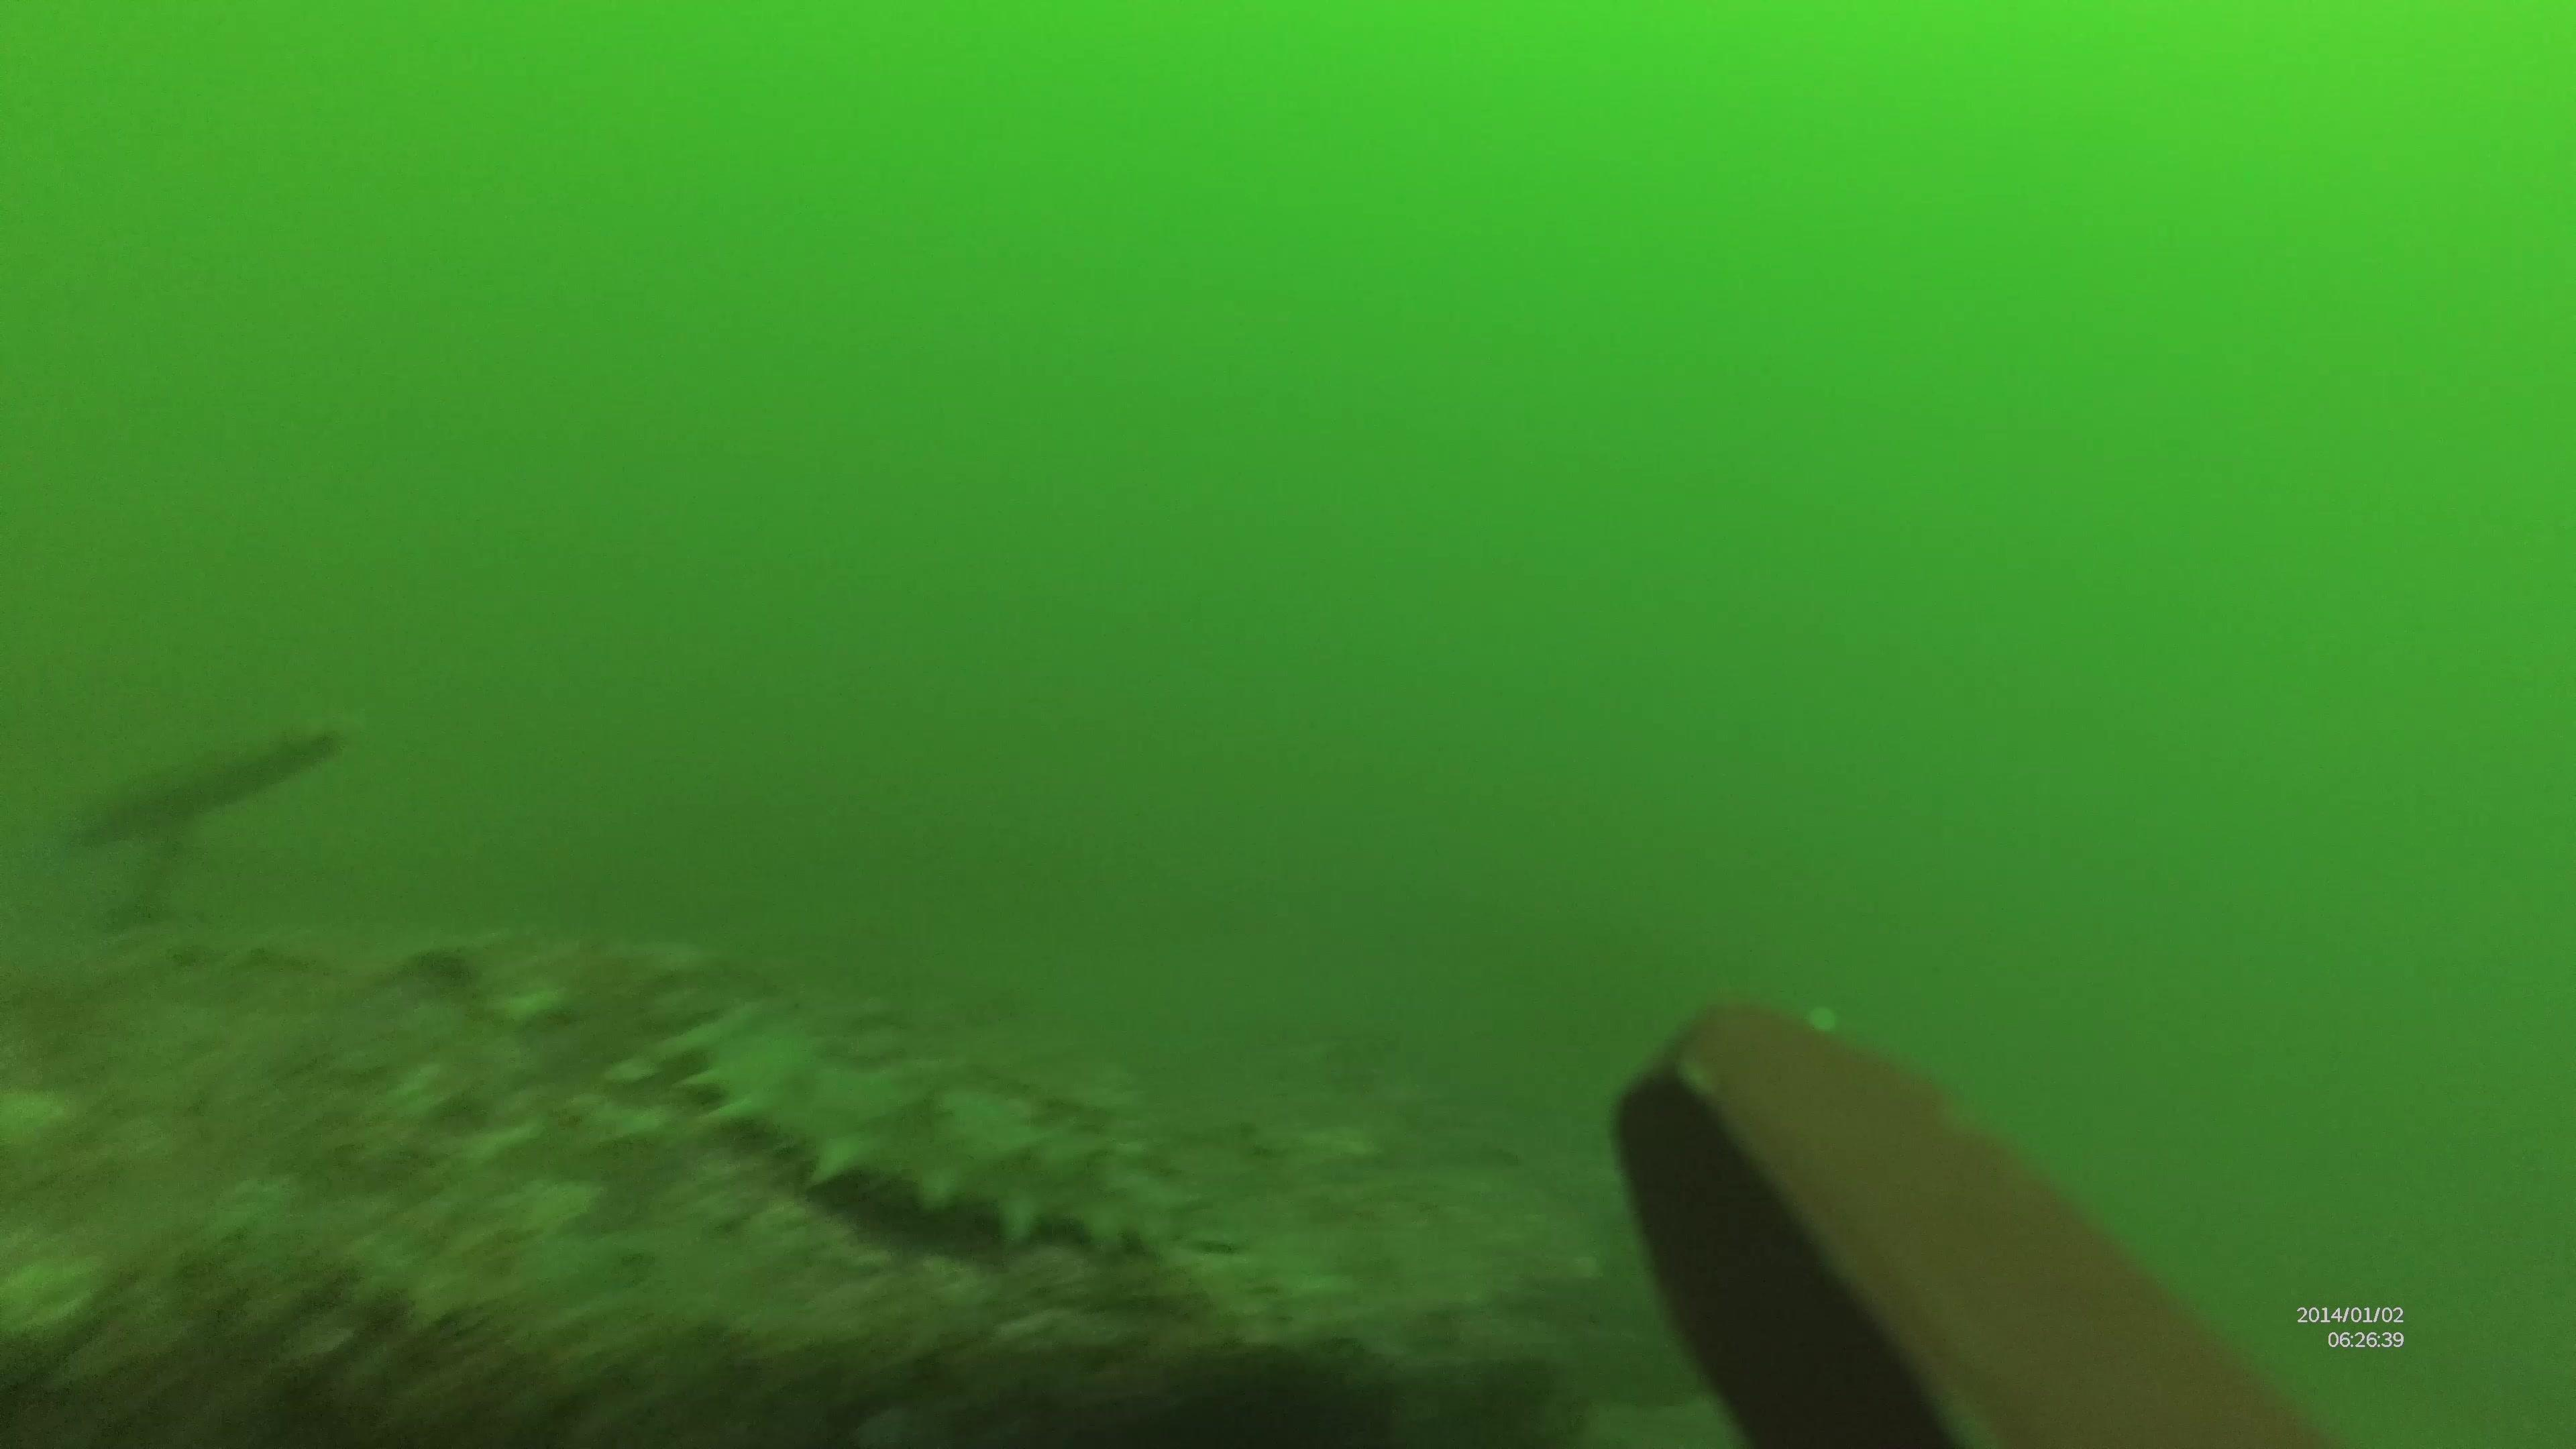holothurian: (655, 1000, 1194, 1272)
